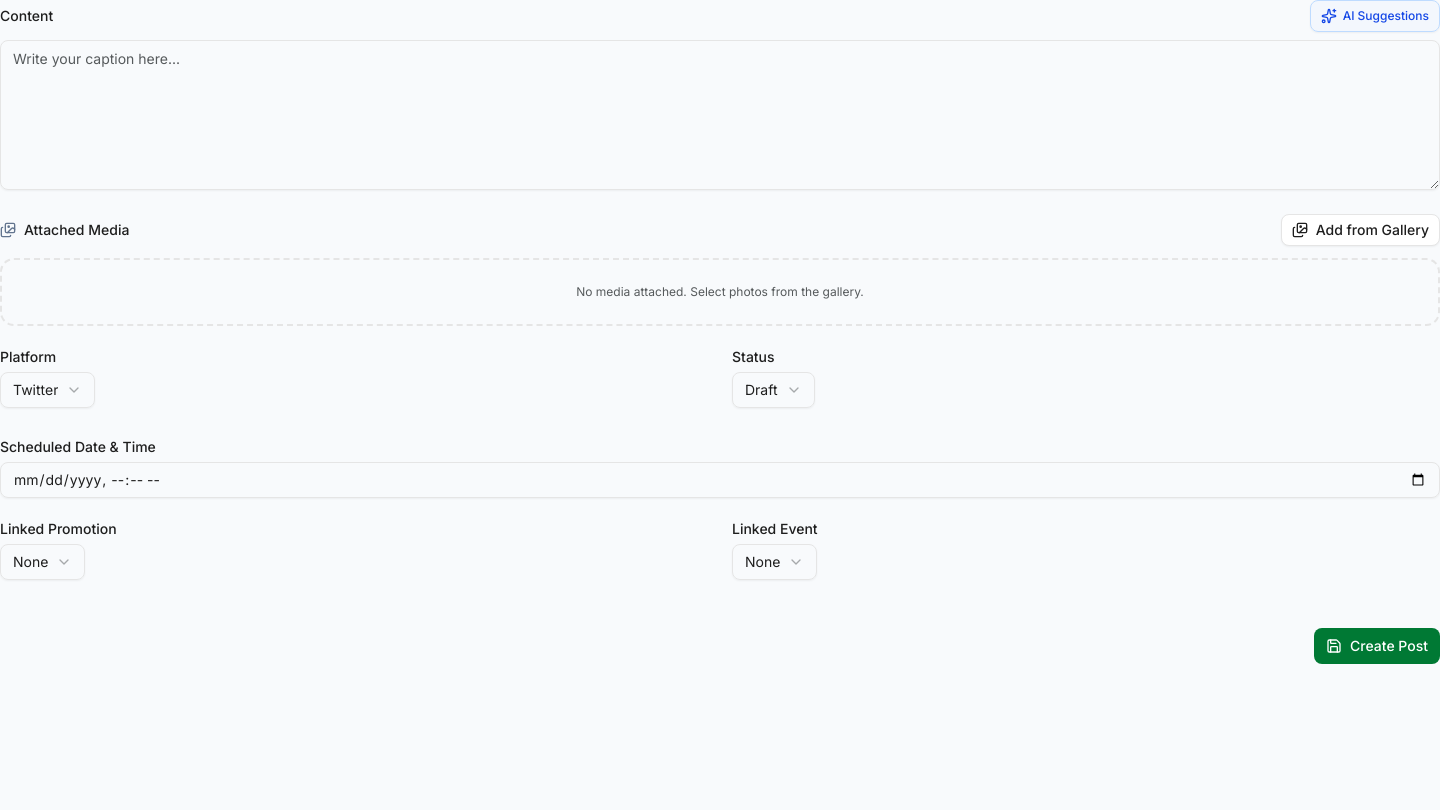
it: SocialPostForm › handles AI suggestions
In the text box with placeholder "Write your caption here...": (720, 115) [0,40,1439,190], type "This is a long enough content to trigger AI."
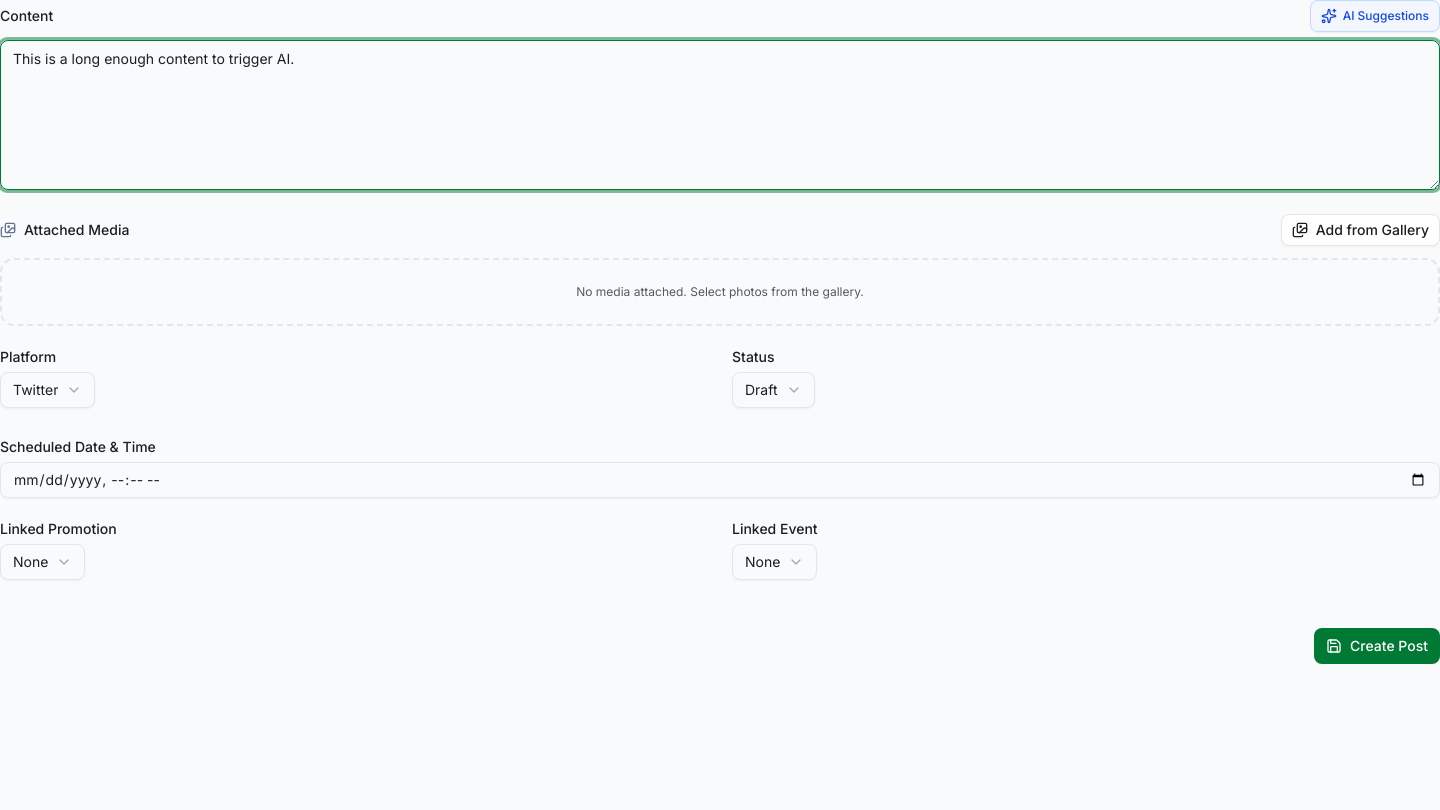
# Click AI suggestions button
Click the button "AI Suggestions": (1375, 16) [1310,0,1439,32]
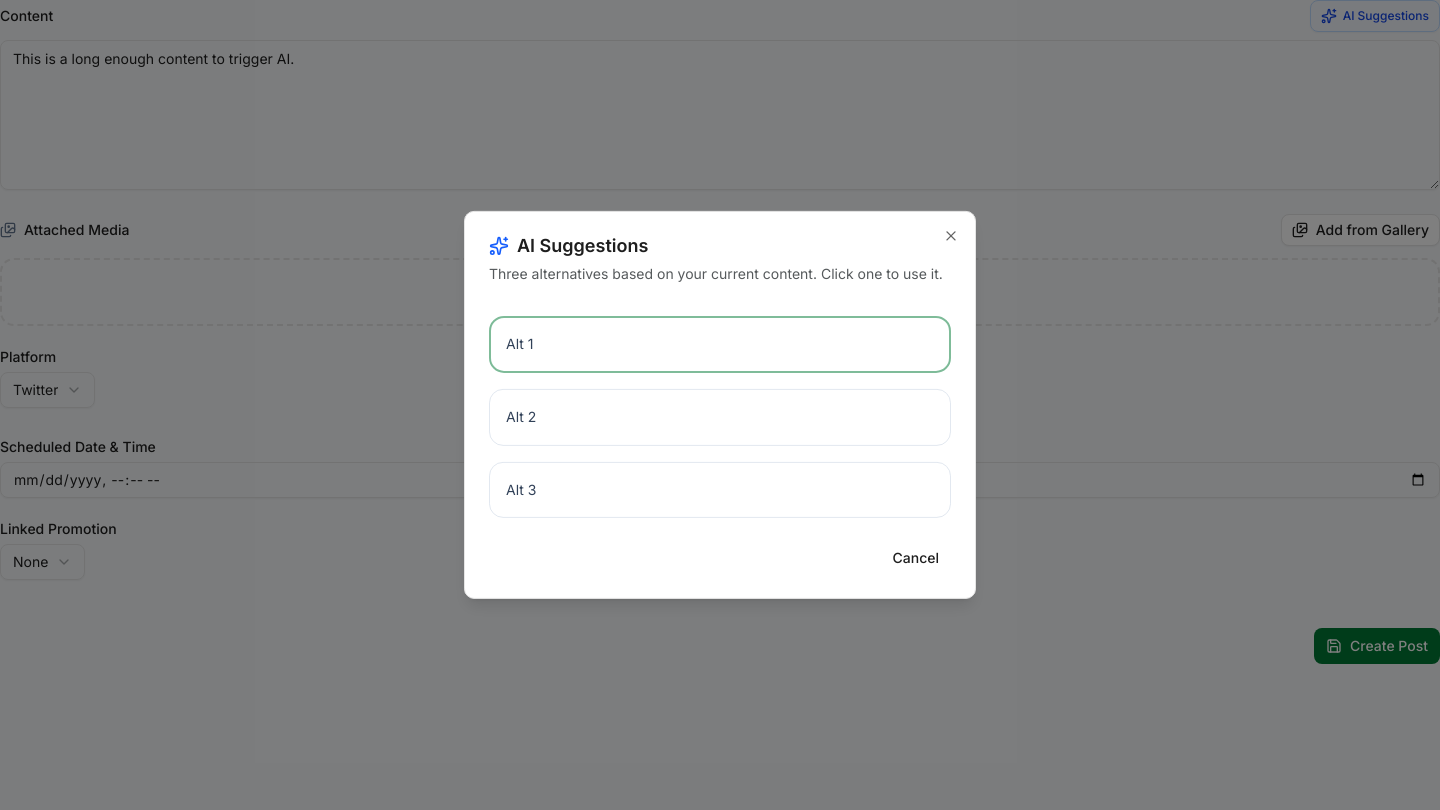
Expected: the text "Alt 1" is shown, [506,335,534,352]
Expected: the text "Alt 2" is shown, [506,408,536,425]
Expected: the text "Alt 3" is shown, [506,480,536,497]
# Select an alternative
Click the button "Alt 1": (520, 343) [489,316,951,373]
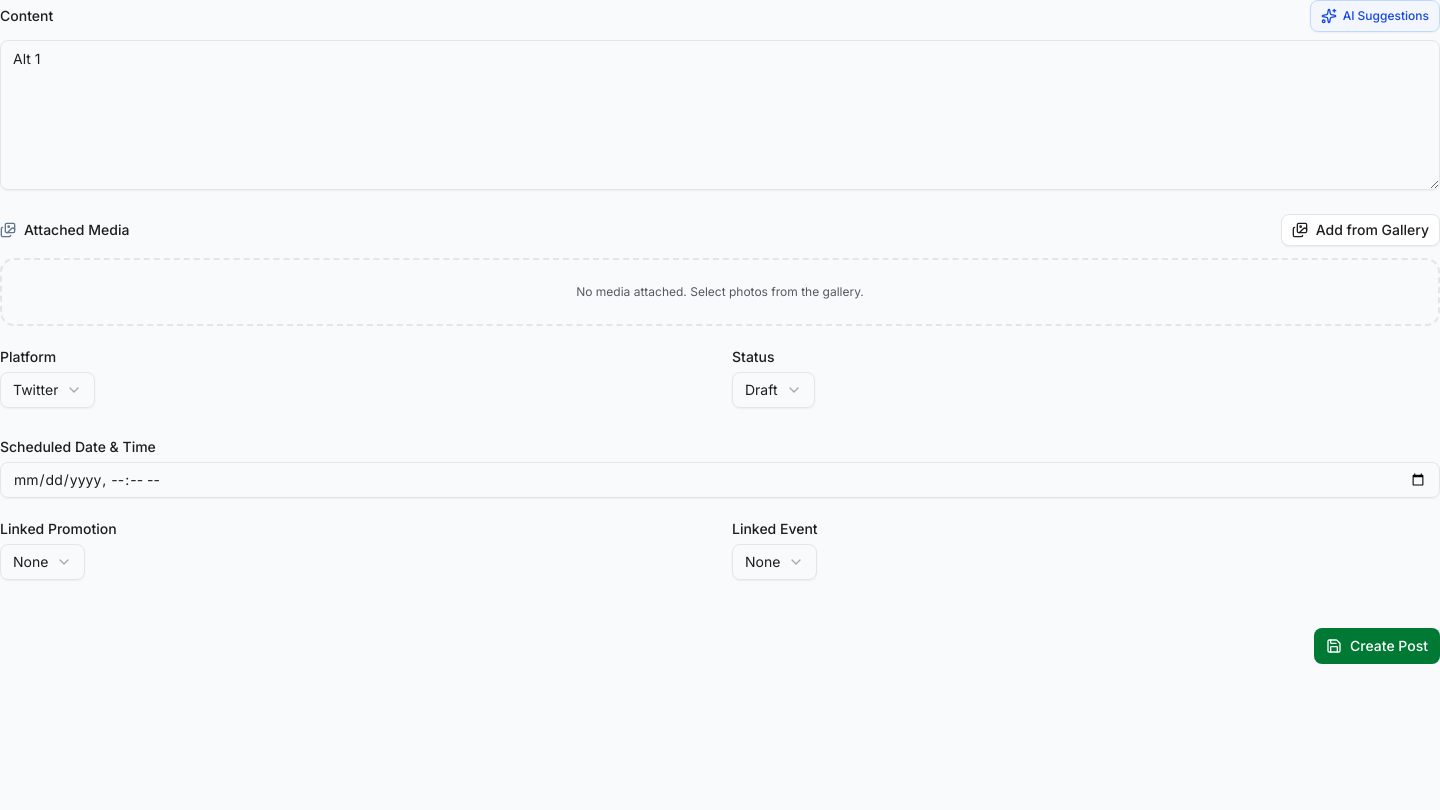
Expected: the text box with placeholder "Write your caption here..." holds "Alt 1", [0,40,1439,190]
